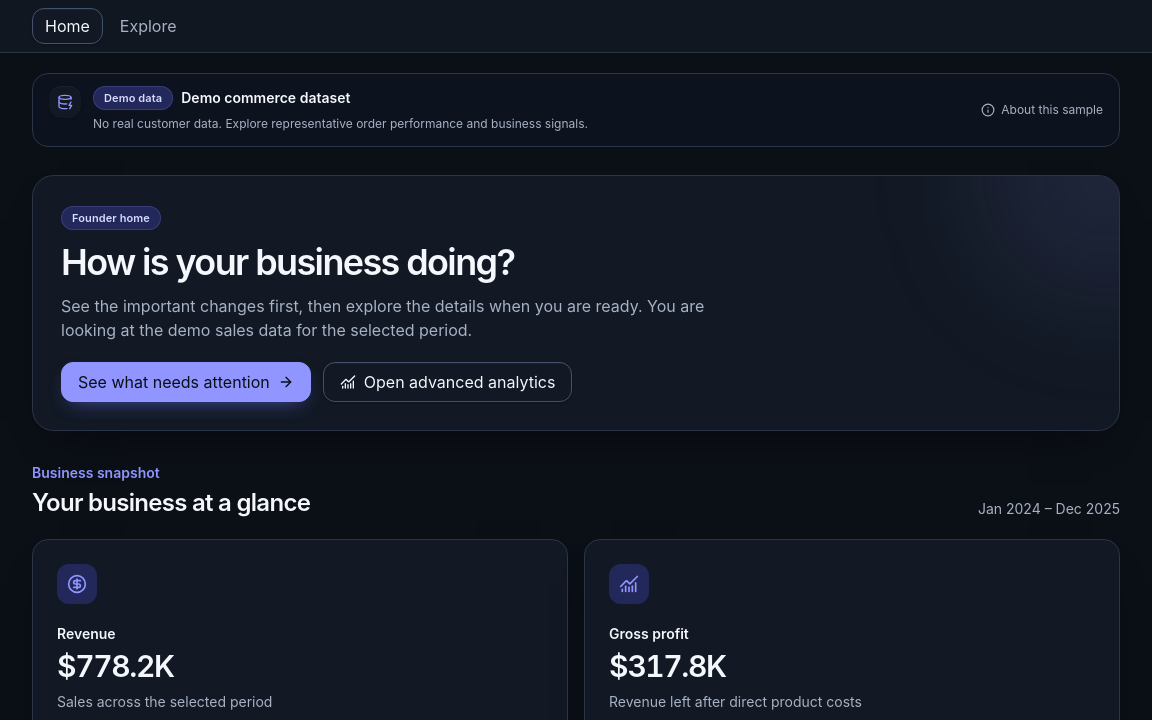
Overview dashboard › keeps global filter controls shareable through the URL and can reset them
This screenshot has width=1152, height=720.
Click the button "Open advanced analytics": (448,382) [323,362,572,402]
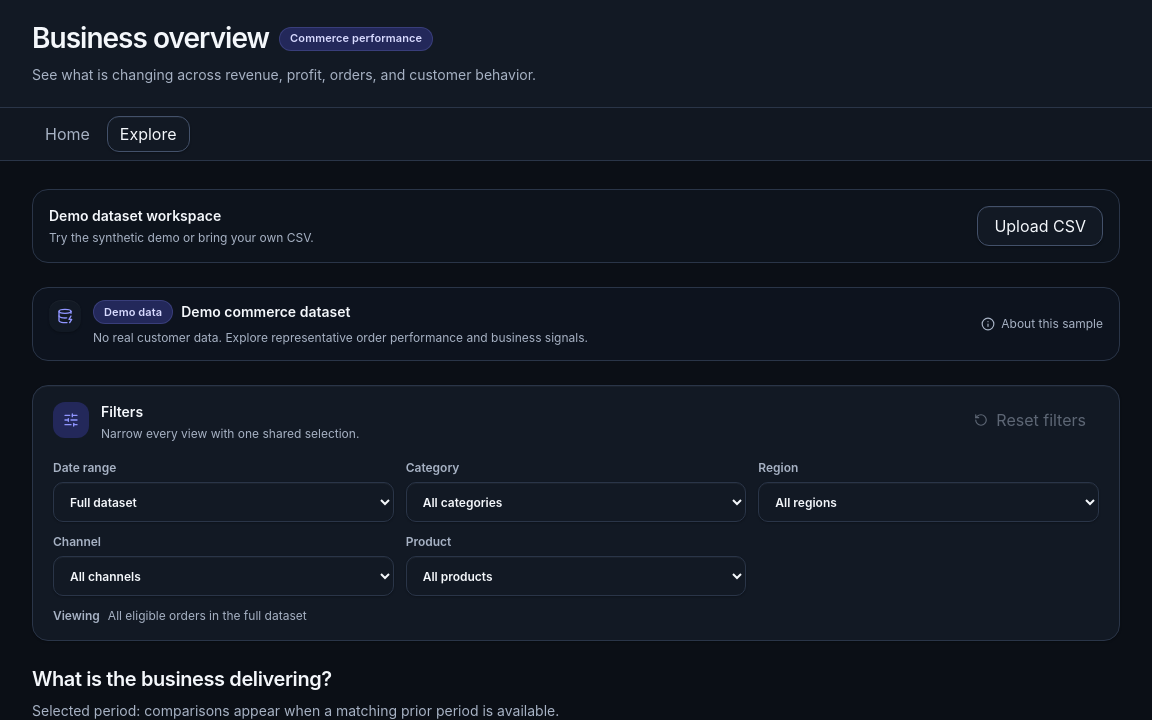
Select "Home" in the dropdown labelled "Category": (576,502) [406,482,746,522]
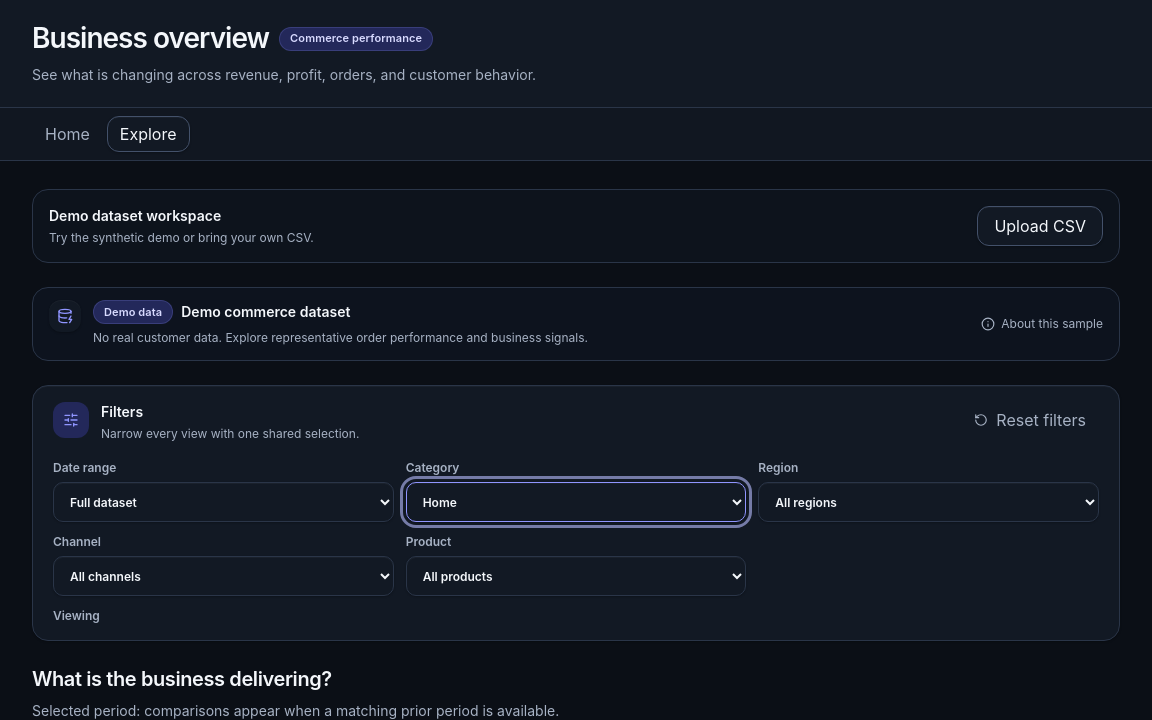
expect the button "Reset filters" is enabled: met
Click the button "Reset filters": (1030,420) [961,402,1099,438]
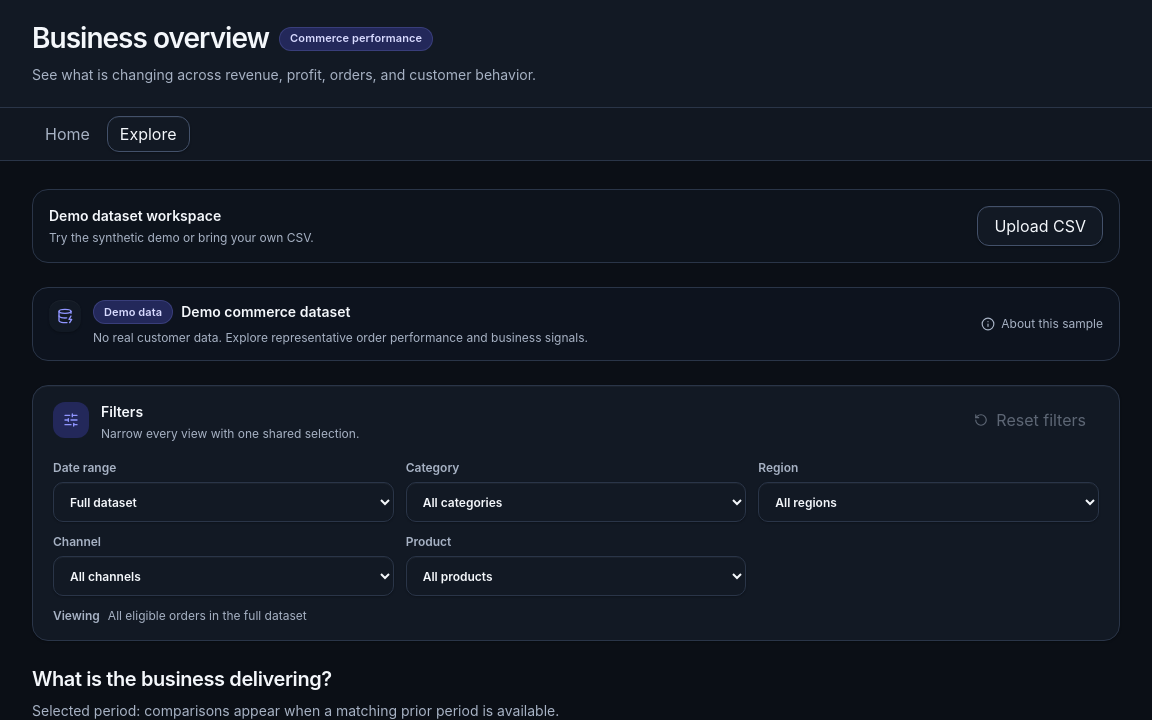
Select "West" in the dropdown labelled "Region": (929,502) [758,482,1099,522]
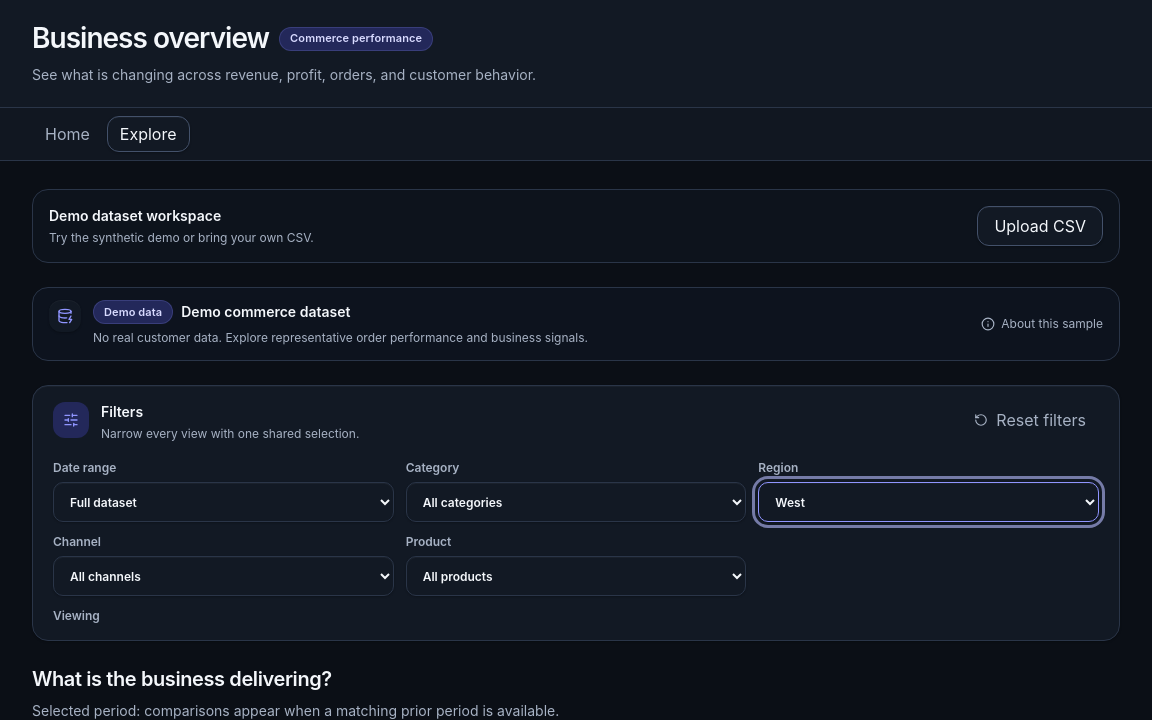
Click the button "Home": (67,134) [32,116,103,152]
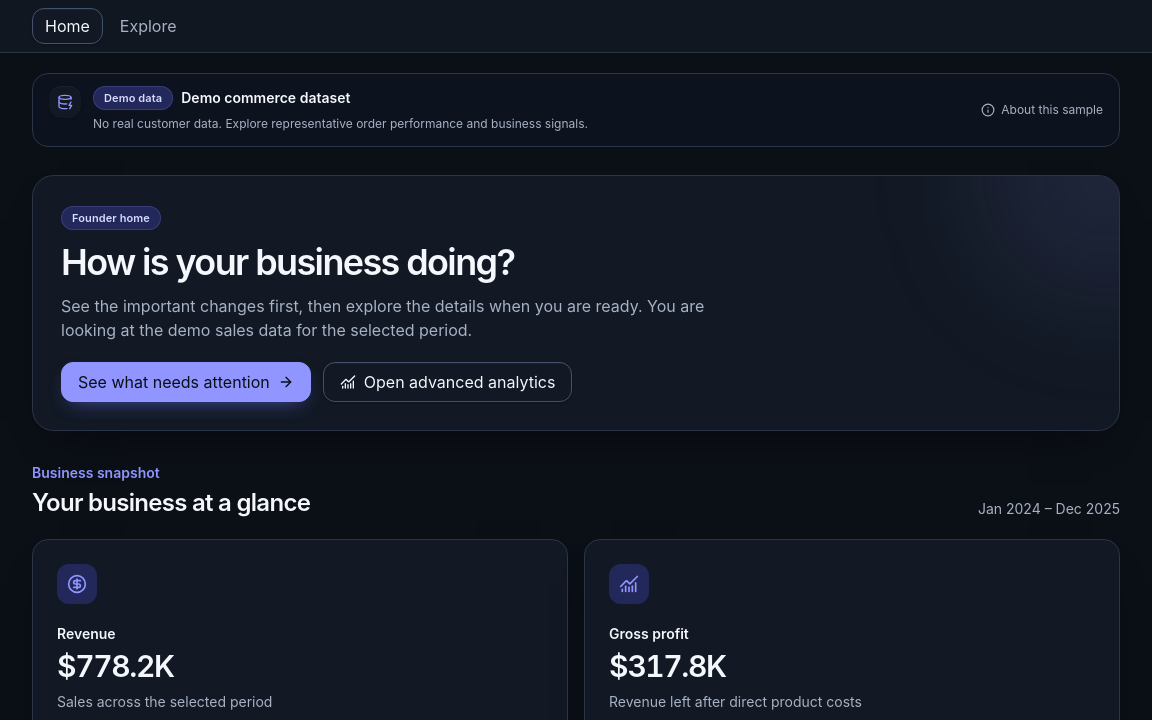
expect the heading "How is your business doing?" is shown: met, box [61,240,514,284]
